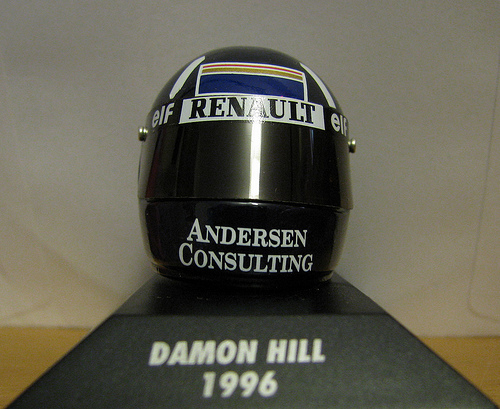helmet: (138, 64, 359, 269)
